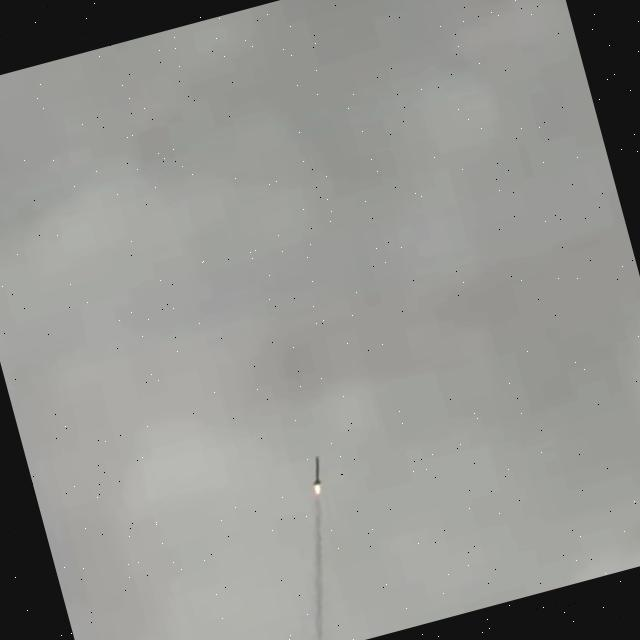smoke_trail_with_rocket: (308, 456, 325, 640)
